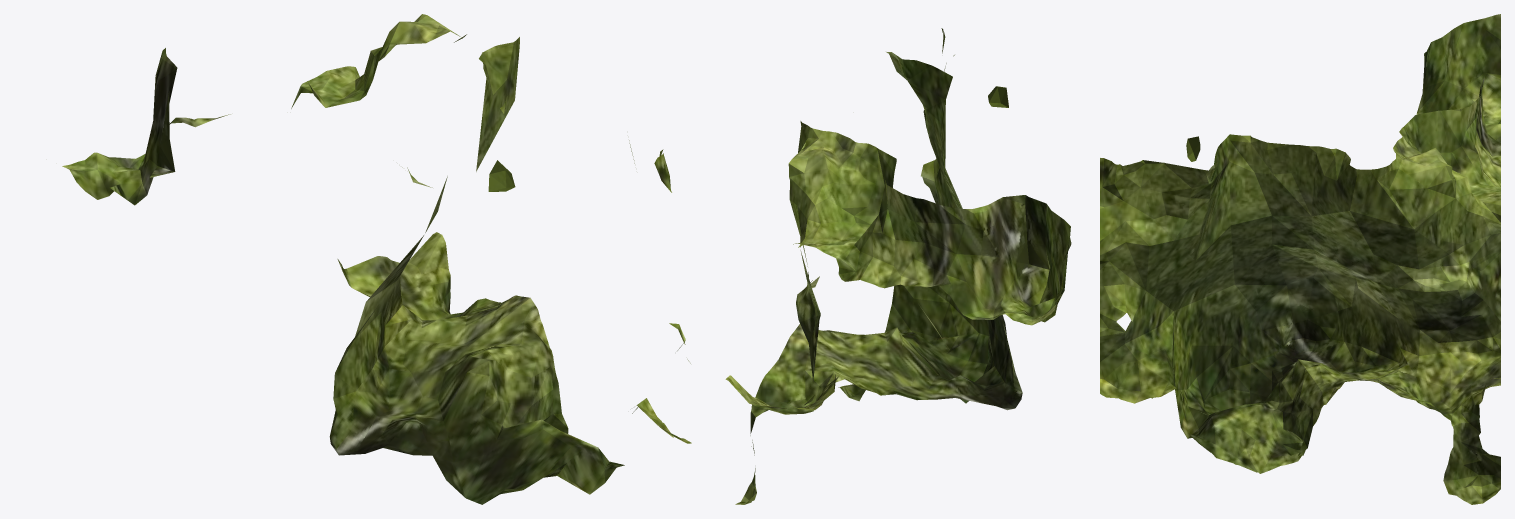
3 views of the same model, side by side, from view 1: azimuth 30°, elevation 25°; view 2: azimuth 150°, elevation 25°; view 3: azimuth 270°, elevation 25° (orthographic). The views are drawn at different scales.
Bounding box in the file's own units: 2.77 × 2.7 × 2.95.
Materials: 4 (4 with a texture image).
